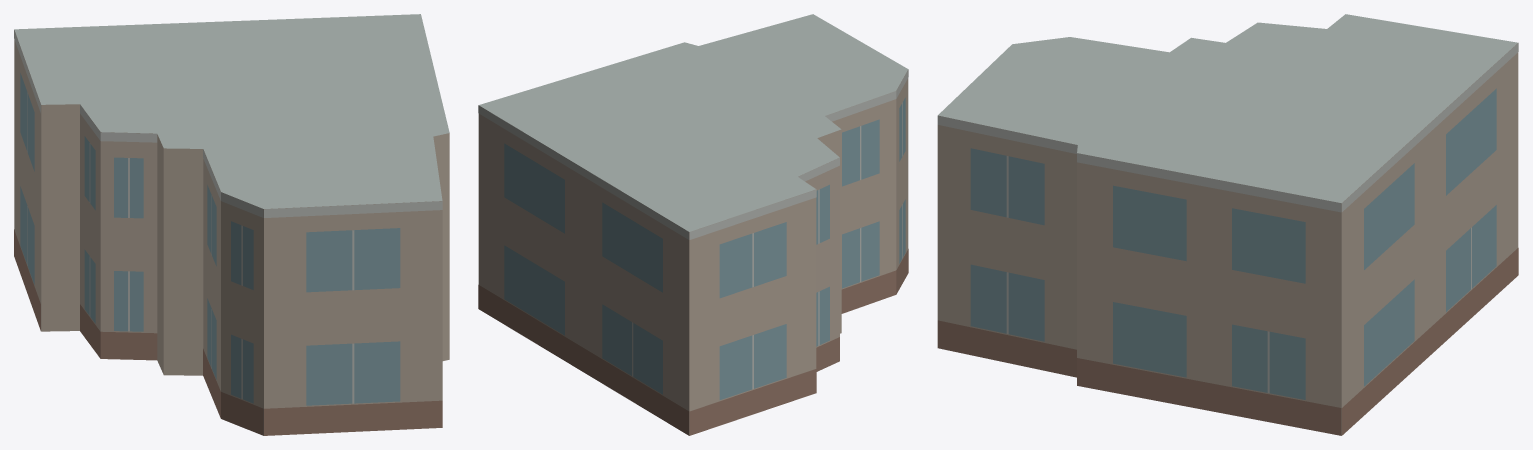
The model's file is survey-upis-32659059.glb.
3 renders of one model, left to right at view 1: azimuth 30°, elevation 25°; view 2: azimuth 150°, elevation 25°; view 3: azimuth 270°, elevation 25°, orthographic. The views are drawn at different scales.
Parts seen in each view (by area): view 1: survey-upis-32659059.tmp; view 2: survey-upis-32659059.tmp; view 3: survey-upis-32659059.tmp.
Boxes of the visible parts, x1,y1,x2,y2 form: survey-upis-32659059.tmp: (14,14,449,435); survey-upis-32659059.tmp: (478,14,908,435); survey-upis-32659059.tmp: (937,14,1518,435).
Bounding box in the file's own units: 10.65 × 6.1 × 13.81.
